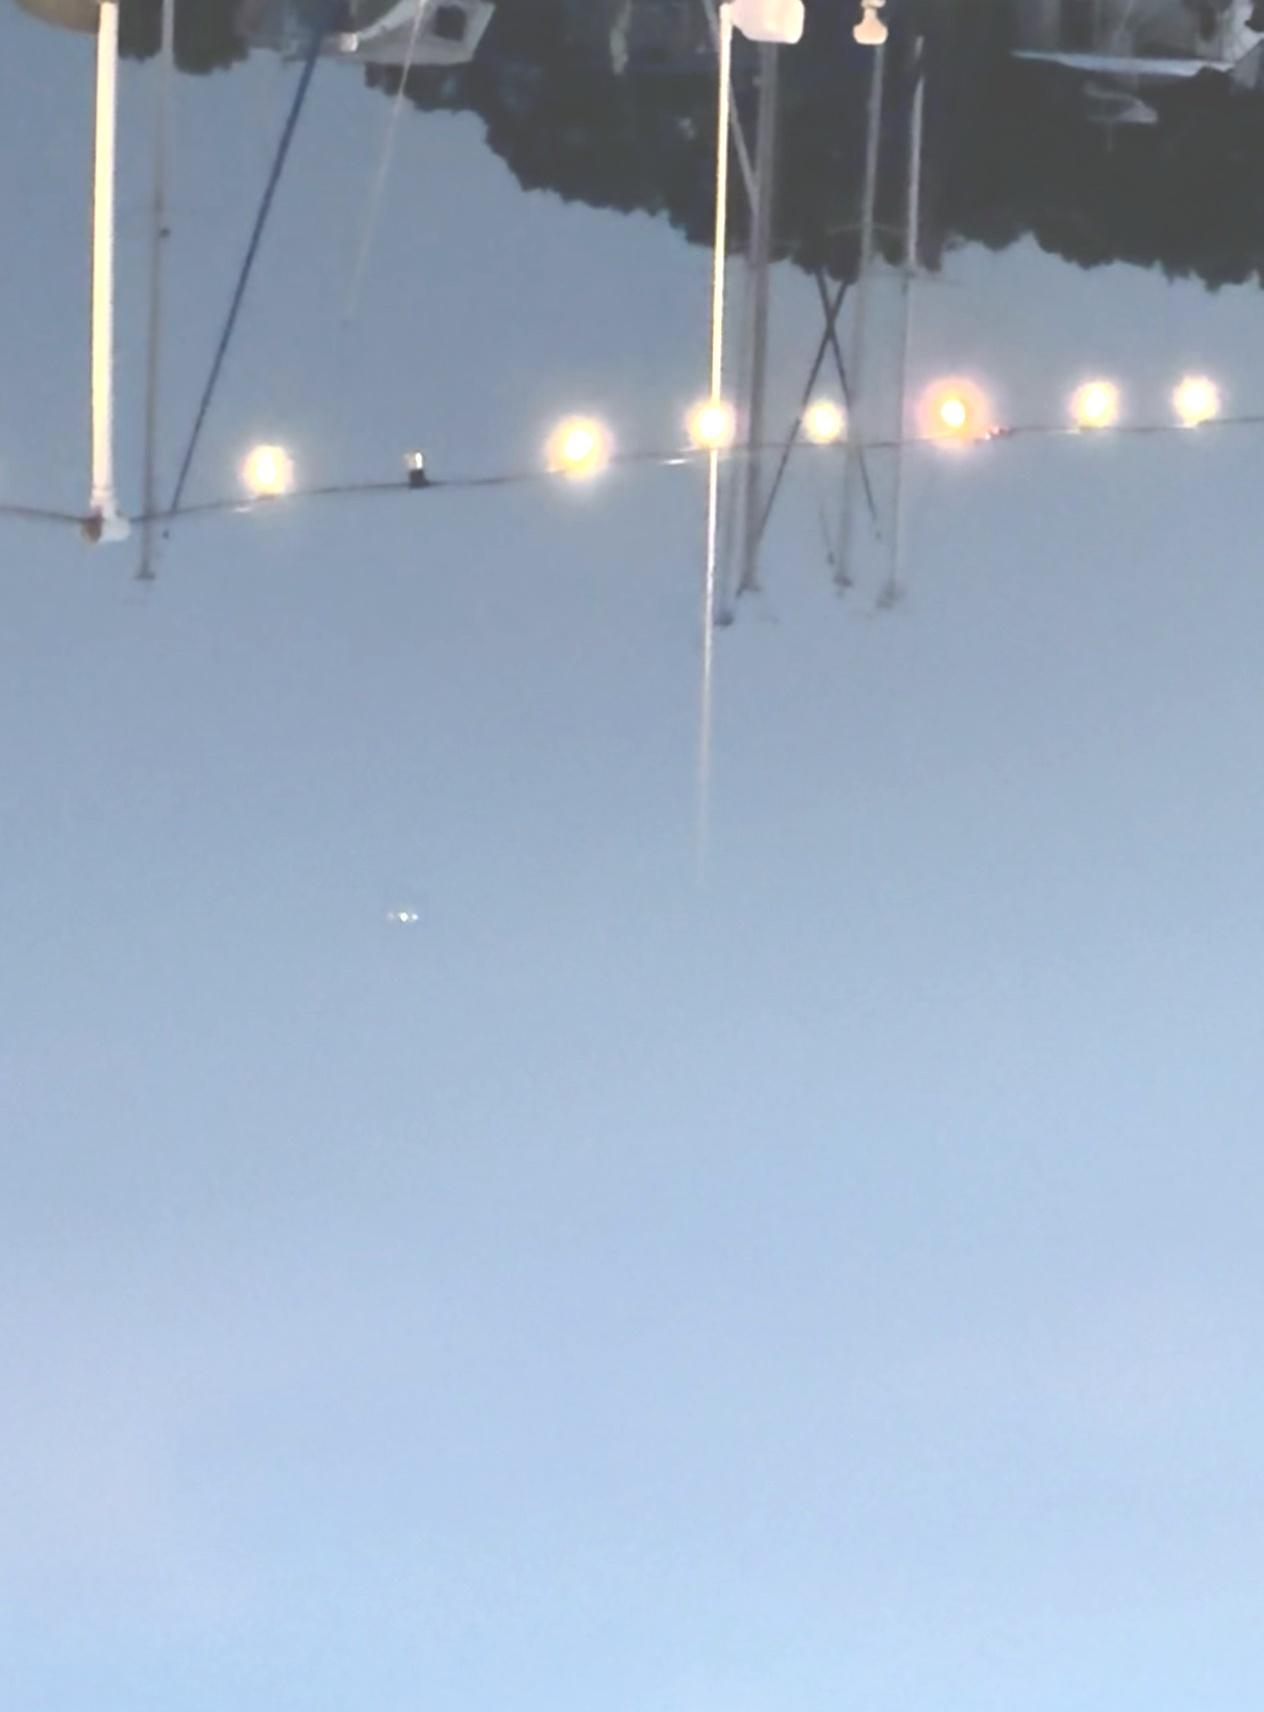Plane: (367, 893, 445, 941)
